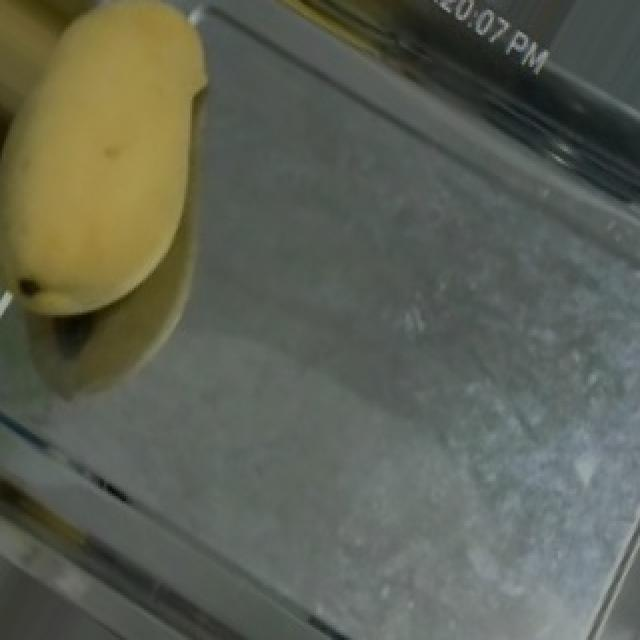fruit: (0, 0, 278, 322)
